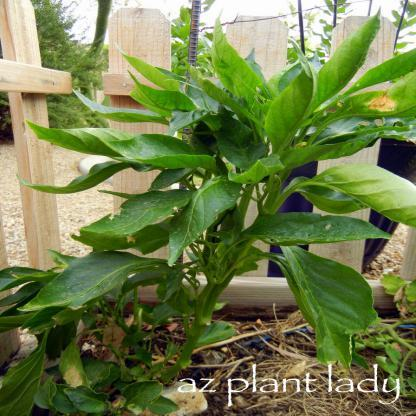Bell_pepper leaf spot: (278, 248, 379, 366), (27, 248, 167, 308), (314, 161, 416, 231), (171, 179, 240, 263), (112, 127, 221, 179), (251, 211, 396, 250), (79, 192, 192, 242), (204, 19, 269, 99), (30, 122, 146, 165), (324, 11, 373, 106), (268, 75, 318, 153), (203, 108, 270, 166), (20, 168, 138, 196)
